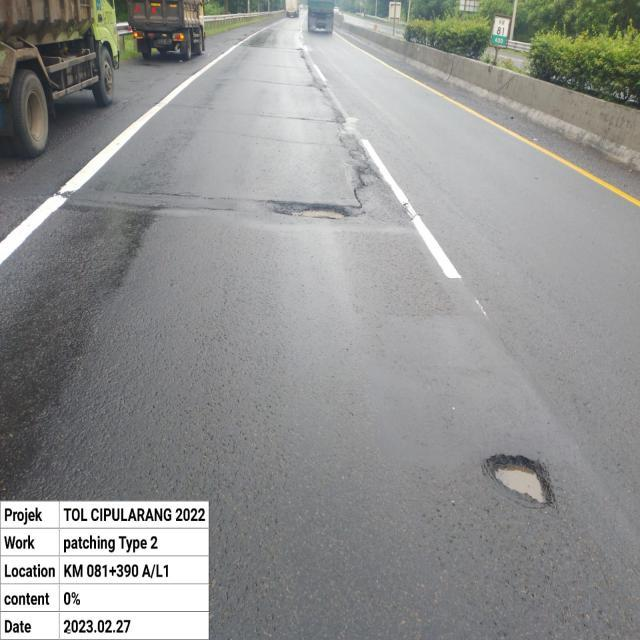Buraco: (482, 451, 560, 509), (262, 198, 352, 222)
